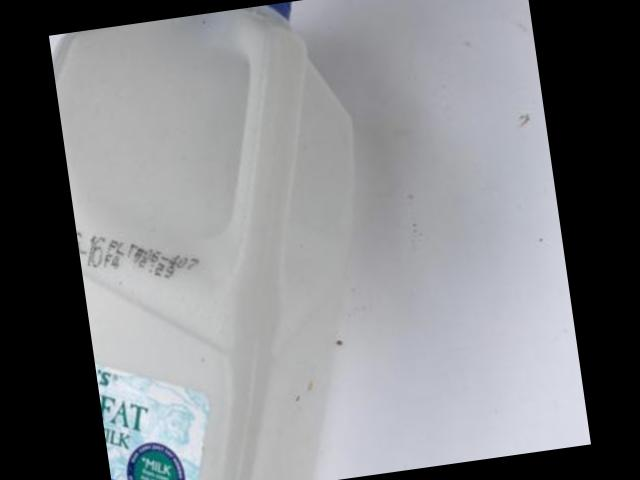plastic: (52, 2, 351, 480)
